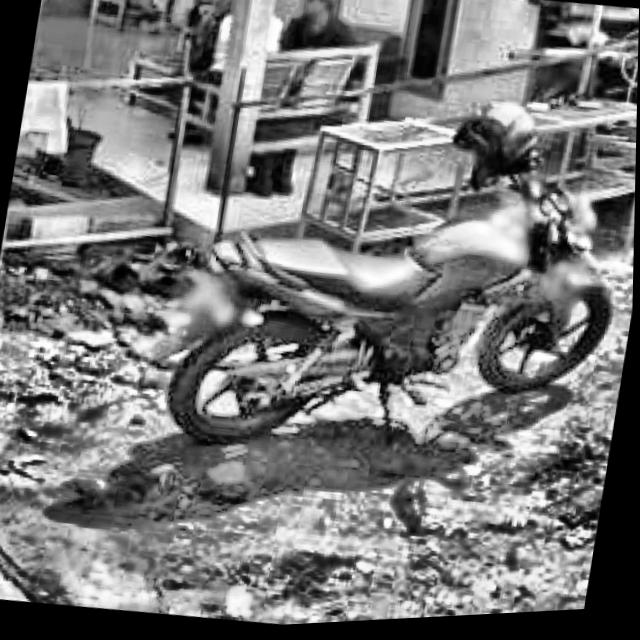motorcycle: (113, 50, 639, 509)
